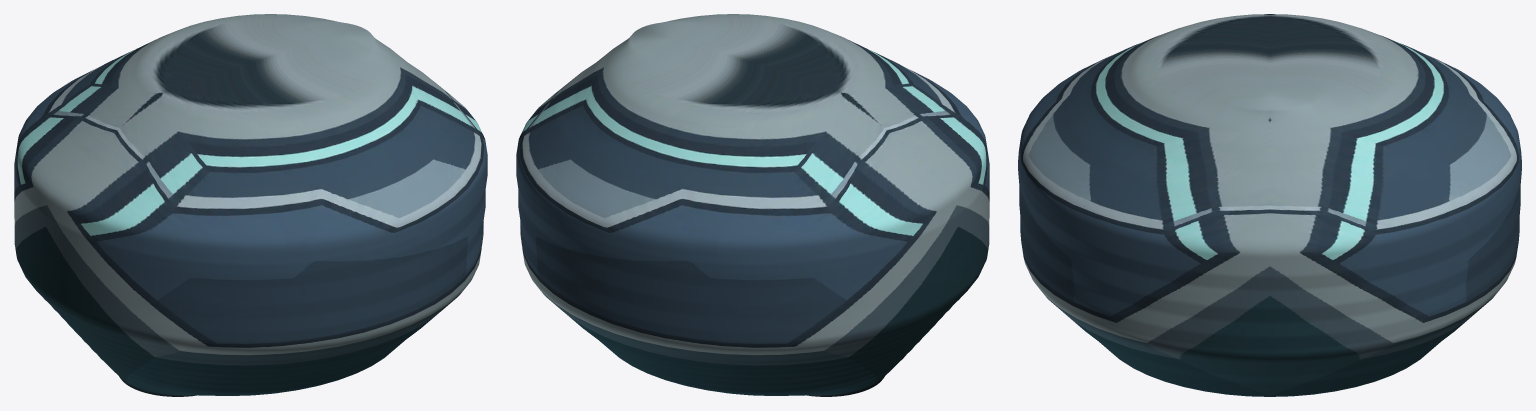
Rendered from armored_pylon.glb.
3 renders of one model, left to right at view 1: azimuth 30°, elevation 25°; view 2: azimuth 150°, elevation 25°; view 3: azimuth 270°, elevation 25°, orthographic. The views are drawn at different scales.
Visible parts, largest first — view 1: armored_pylon; view 2: armored_pylon; view 3: armored_pylon.
Boxes of the visible parts, x1,y1,x2,y2 form: armored_pylon: [14, 14, 487, 396]; armored_pylon: [516, 14, 989, 396]; armored_pylon: [1018, 14, 1521, 396].
Bounding box in the file's own units: 1 × 0.6887 × 1.
Materials: 1 (1 with a texture image).
